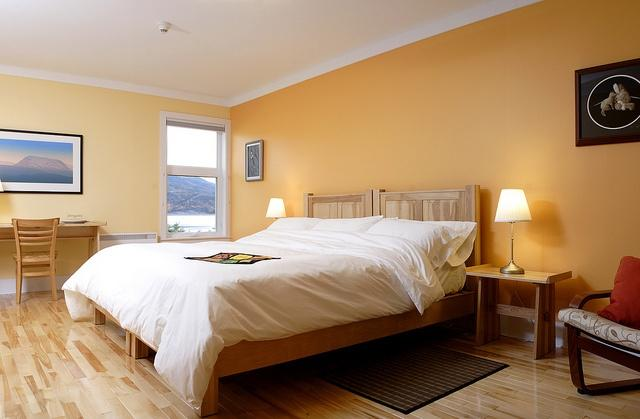Kursi: (10, 216, 57, 303)
